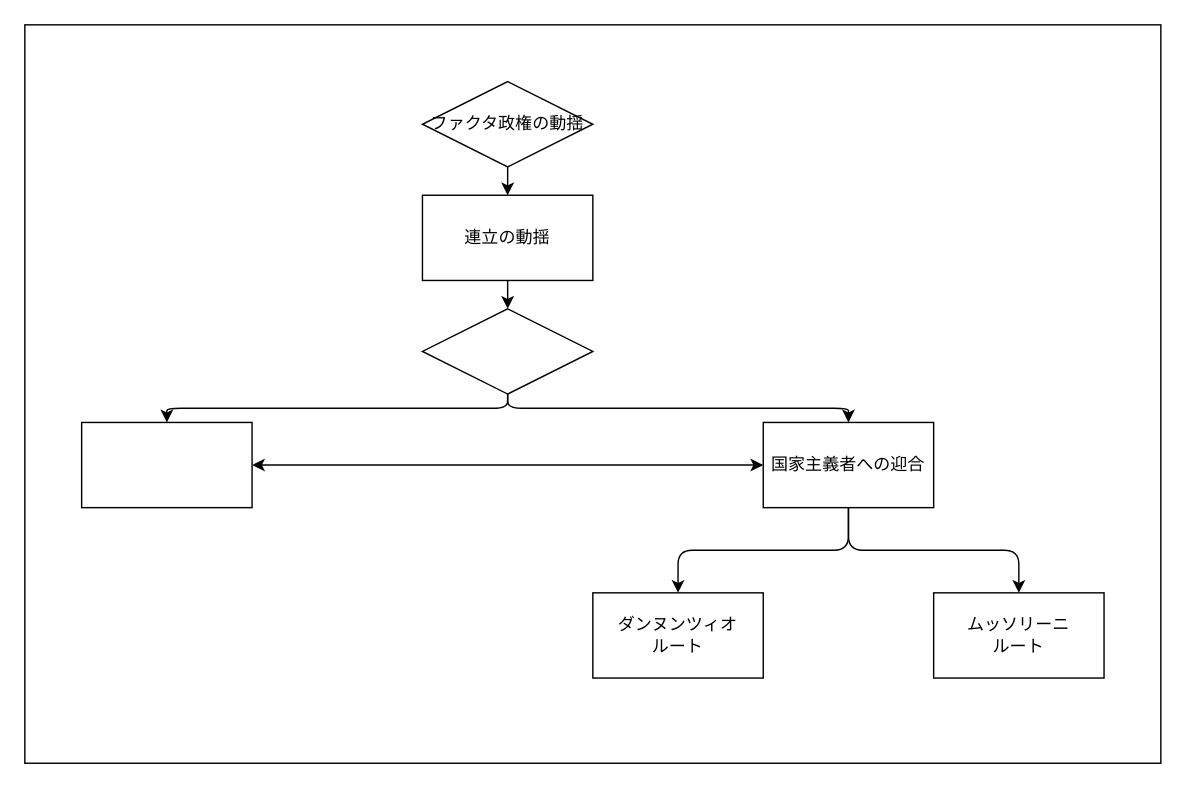
This 1186x788 diagram has some shape labels left out. Here are the shapes that lost their labels. From the top down, the box of each, then its label:
(421, 307, 593, 394): ローマ進軍
(80, 421, 252, 508): 国家主義者の取締
